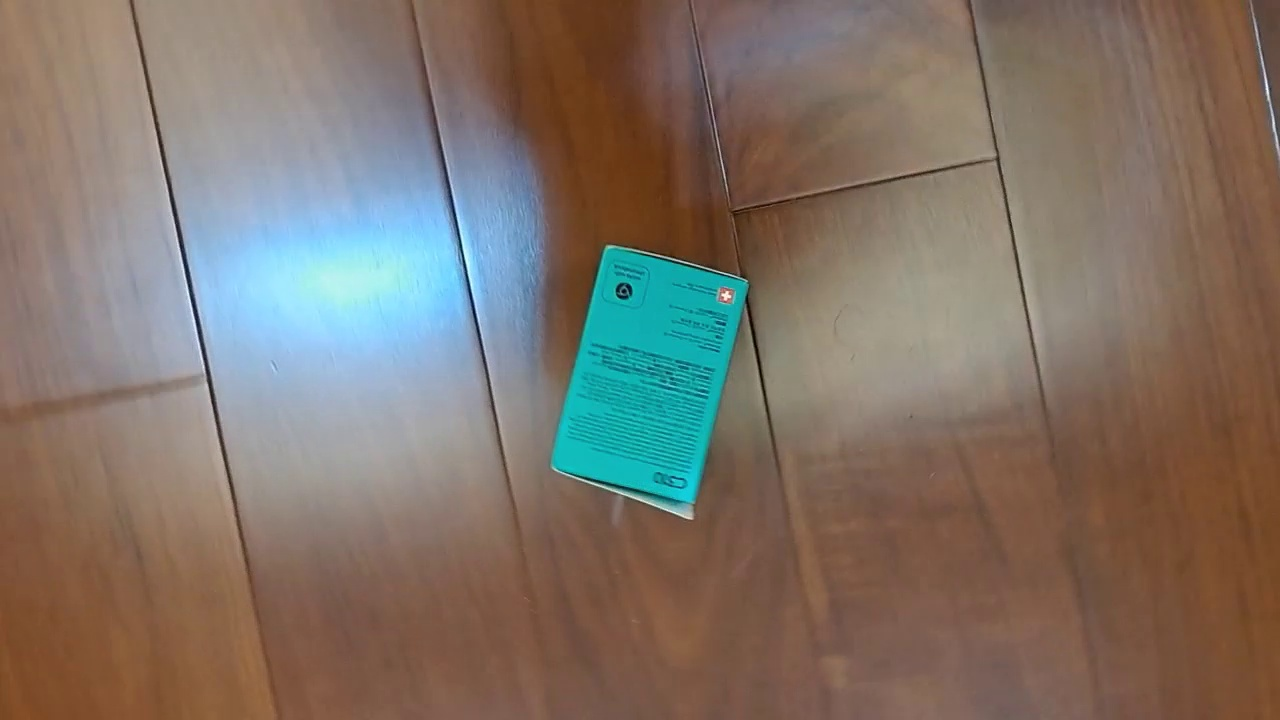webcam: (549, 244, 750, 521)
